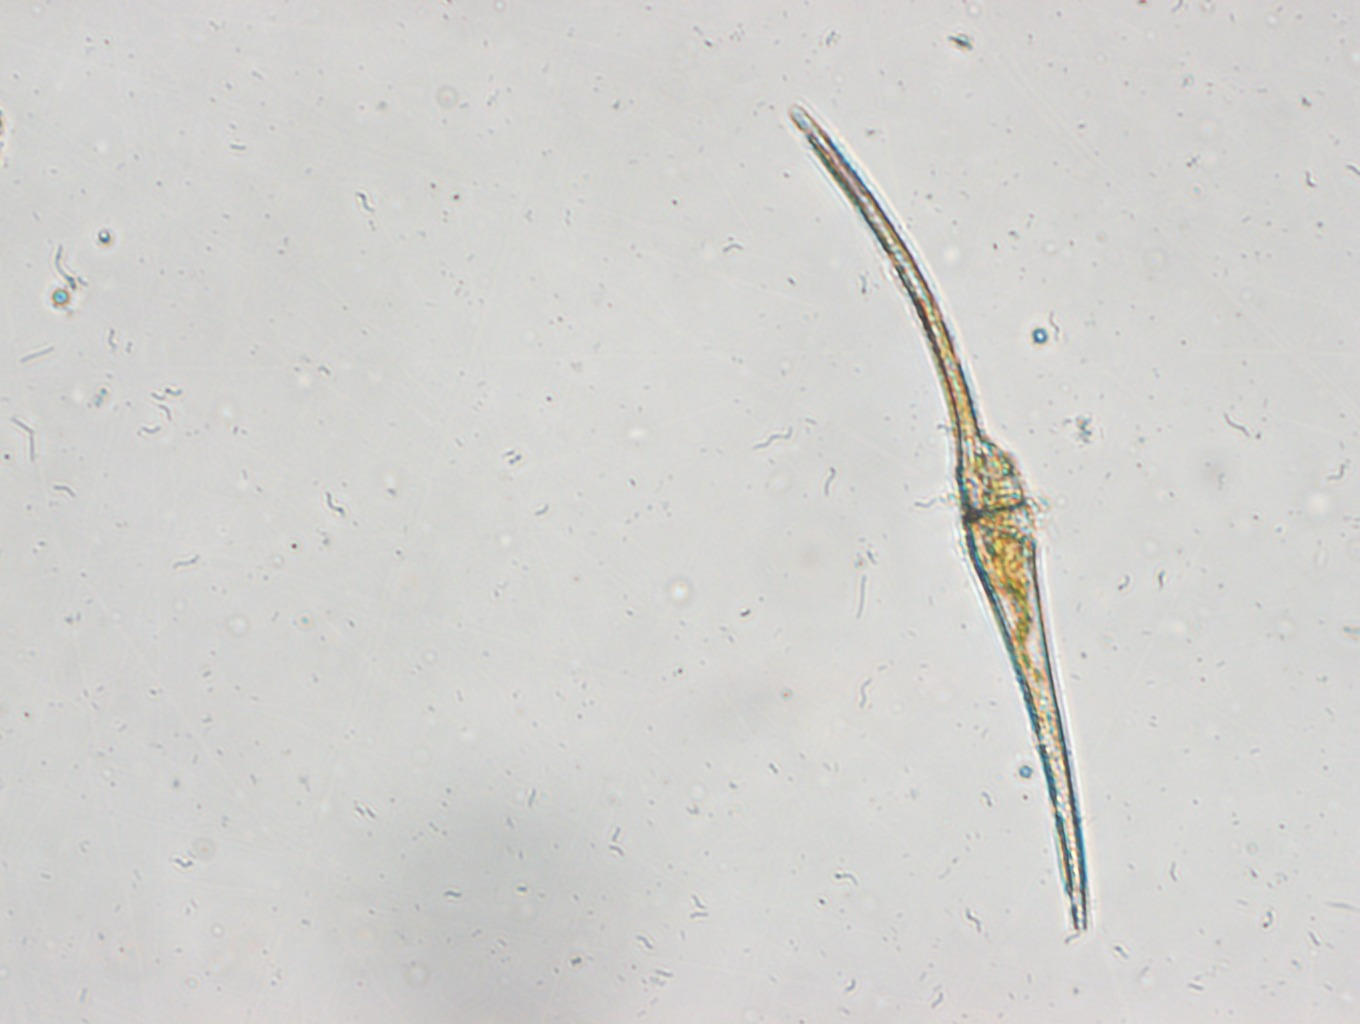ceratium fusus: (783, 93, 1103, 942)
